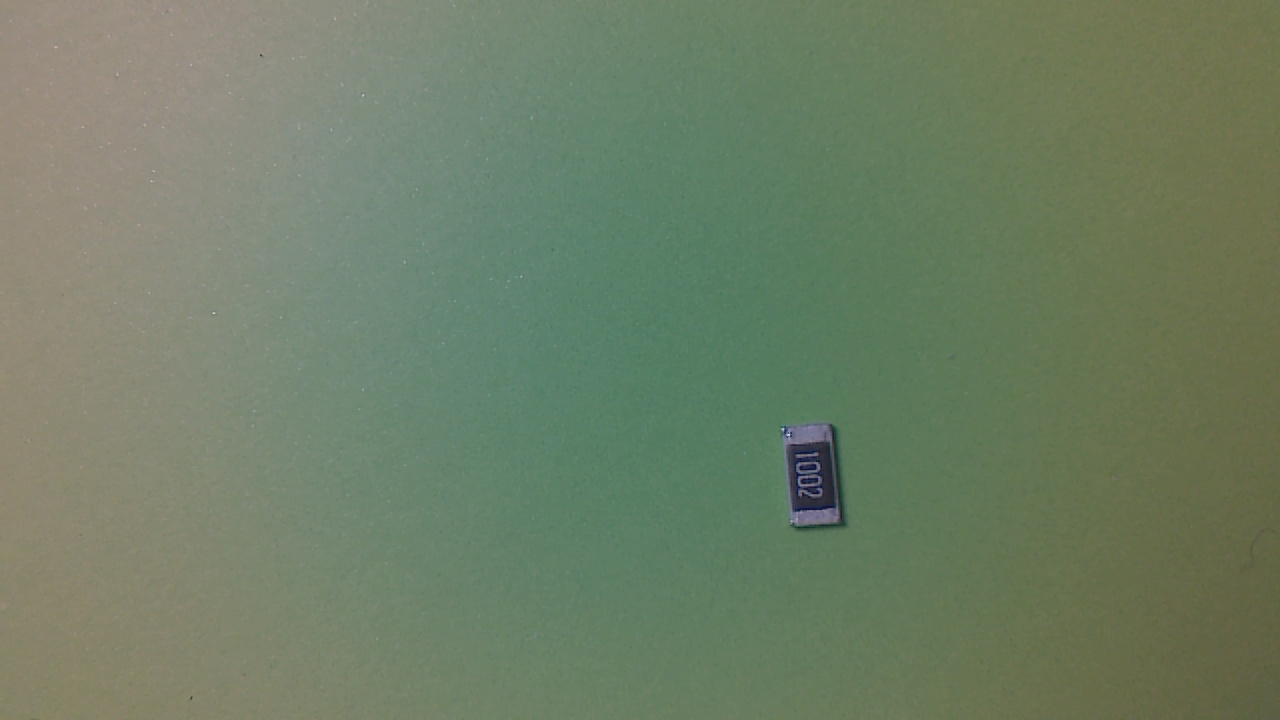Resistor: (781, 424, 855, 542)
